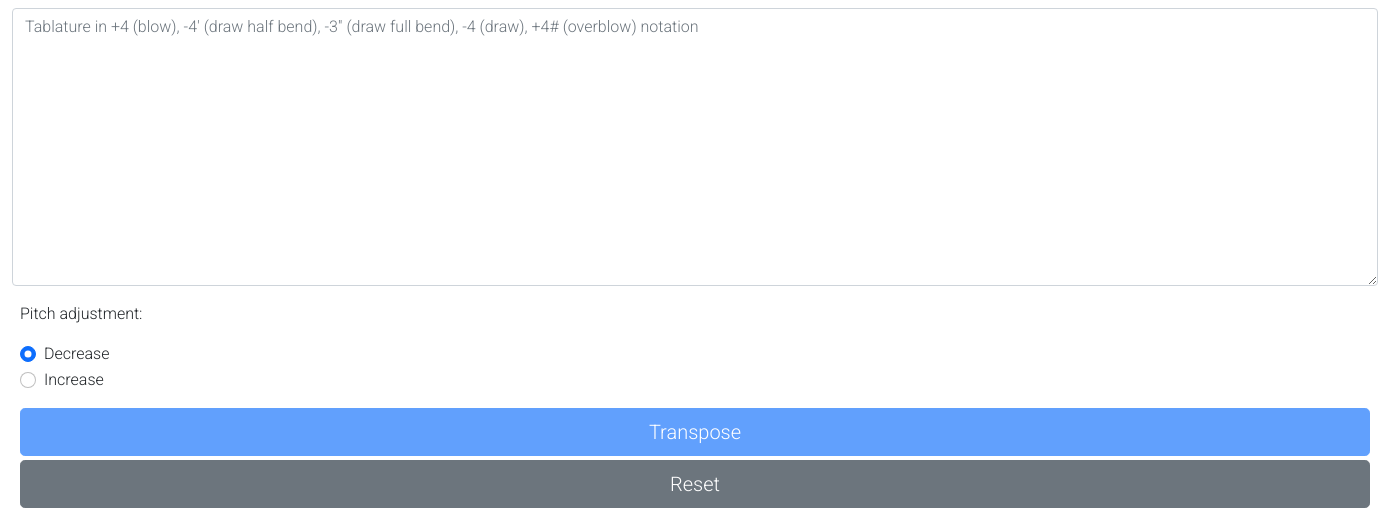
Transposer › Transpose button › Valid tablature enables Transpose button
Replace the text in the text box with id "tablature" with "+4" at x=695, y=147, box [12,8,1378,286]
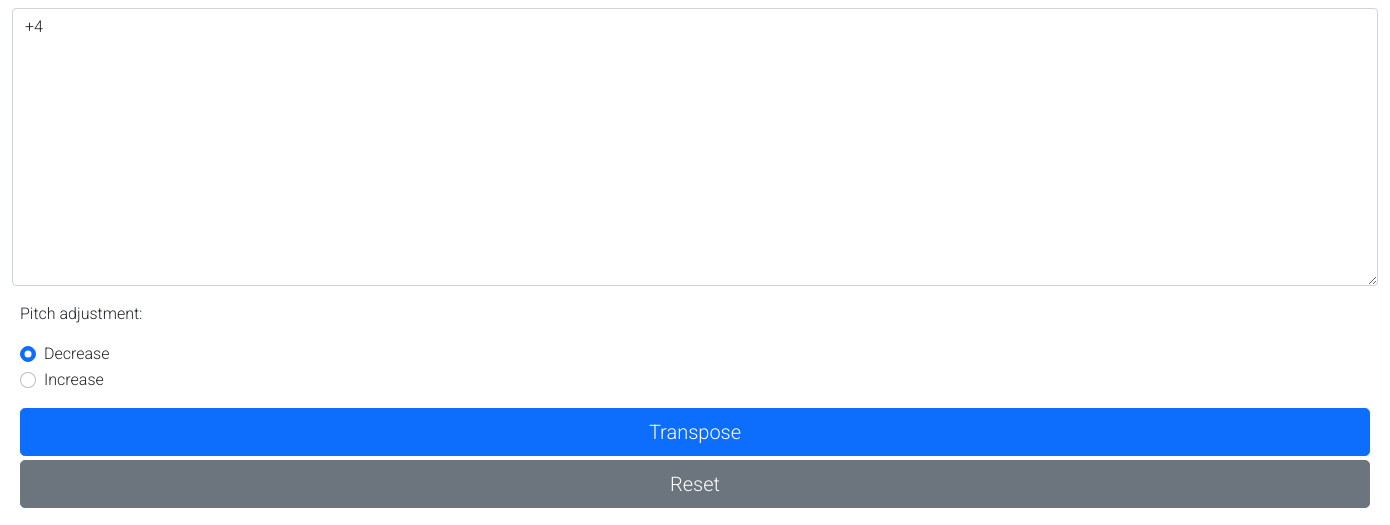
Check: the button with id "transposeBtn" is enabled, box [20,408,1370,456]
